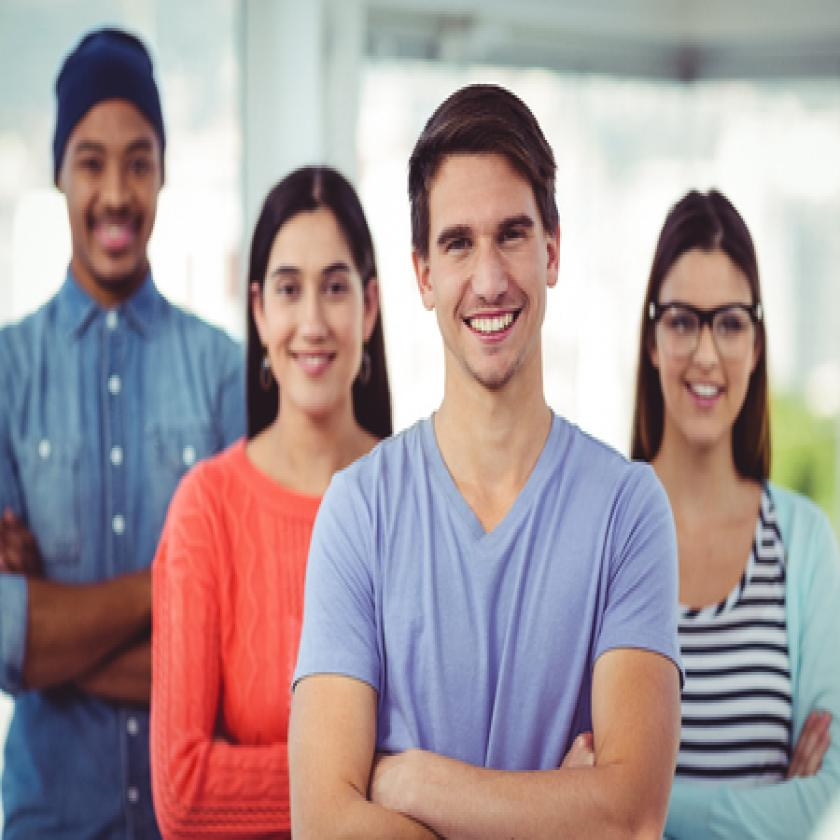Sin_casco: (409, 77, 562, 390), (245, 158, 382, 426), (648, 179, 772, 467), (50, 23, 170, 283)
